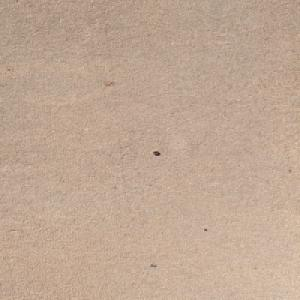Nut: (152, 150, 159, 154)
